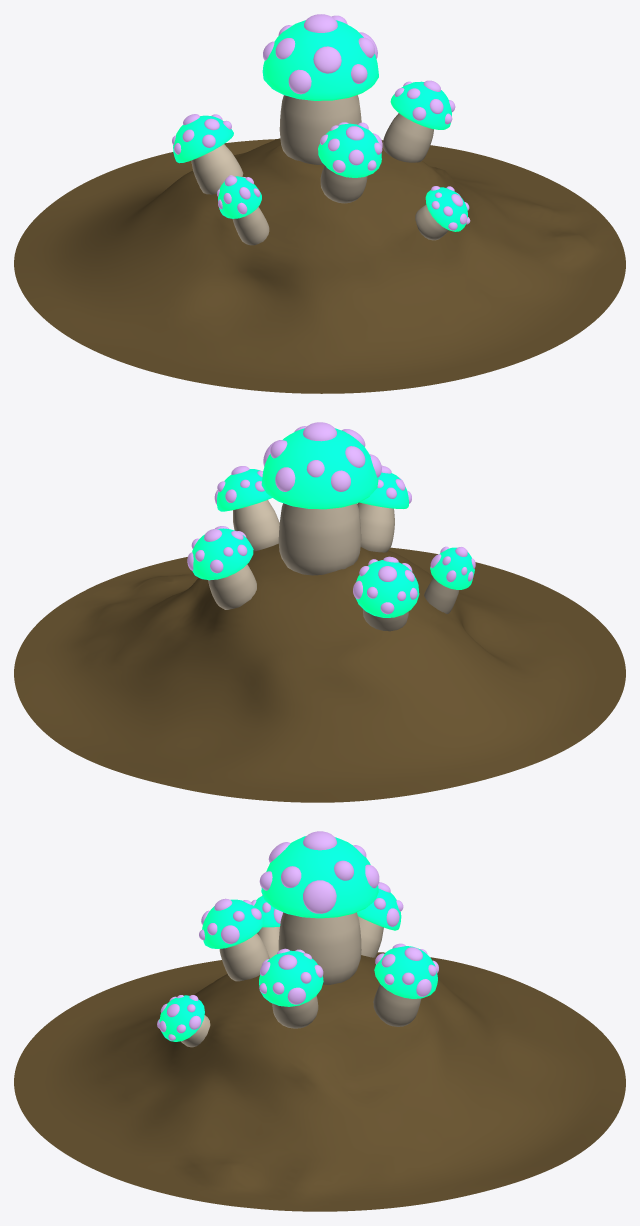
File: Poisonus_Mushrooms.fbx
3 views of the same model, one above another, from view 1: azimuth 30°, elevation 25°; view 2: azimuth 150°, elevation 25°; view 3: azimuth 270°, elevation 25° (orthographic).
Parts seen in each view (by area): view 1: Hill, Shroom_Top (×6), Shroom_Stalk (×6), Poison_Sack3, Poison_Sack12; view 2: Hill, Shroom_Top (×6), Shroom_Stalk (×6), Poison_Sack12; view 3: Hill, Shroom_Top (×6), Shroom_Stalk (×5), Poison_Sack11, Poison_Sack12.
Part boxes in pixels (<box>): Hill: <box>14,138,625,393</box>; Shroom_Top (×6): <box>173,20,467,231</box>; Shroom_Stalk (×6): <box>191,95,448,245</box>; Poison_Sack3: <box>313,46,341,73</box>; Poison_Sack12: <box>304,14,337,32</box>; Hill: <box>14,543,625,802</box>; Shroom_Top (×6): <box>192,428,474,617</box>; Shroom_Stalk (×6): <box>208,500,459,631</box>; Poison_Sack12: <box>303,422,336,441</box>; Hill: <box>14,952,625,1211</box>; Shroom_Top (×6): <box>159,836,437,1041</box>; Shroom_Stalk (×5): <box>219,912,421,1028</box>; Poison_Sack11: <box>303,880,336,913</box>; Poison_Sack12: <box>303,831,336,850</box>.
Bounding box in the file's own units: 10.42 × 4.8 × 10.41.
